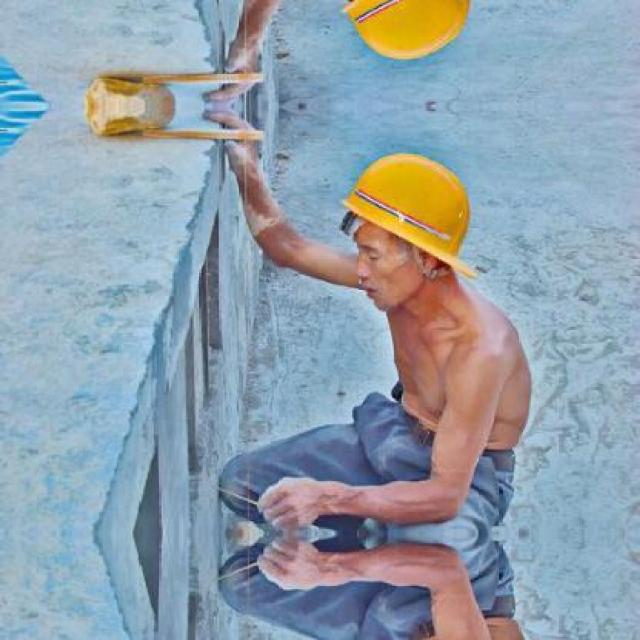safetyhelmet: (336, 145, 476, 295)
